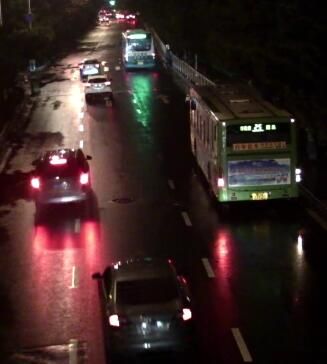bus: (187, 78, 303, 207), (121, 29, 154, 67)
car: (91, 256, 200, 353), (28, 148, 89, 212), (81, 73, 111, 96), (76, 58, 103, 78), (98, 16, 111, 25)
